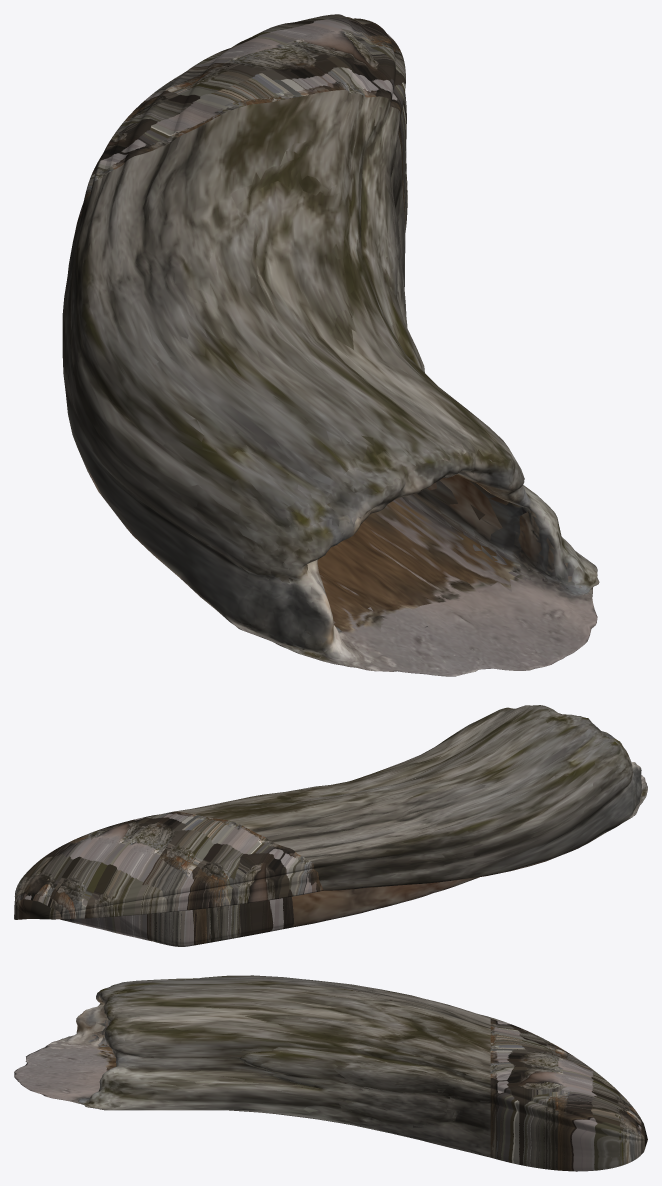
Rendered from camp-cave-model-r26.glb.
3 renders of one model, top to bottom at view 1: azimuth 30°, elevation 25°; view 2: azimuth 150°, elevation 25°; view 3: azimuth 270°, elevation 25°, orthographic. The views are drawn at different scales.
Visible parts, largest first — view 1: Continuous cave shell; view 2: Continuous cave shell; view 3: Continuous cave shell.
Boxes of the visible parts, x1,y1,x2,y2 form: Continuous cave shell: [62, 14, 599, 676]; Continuous cave shell: [14, 705, 647, 946]; Continuous cave shell: [14, 975, 647, 1171].
Size of the model in its own units: 32.26 by 8.4 by 56.81.
1 material, 1 textured.
